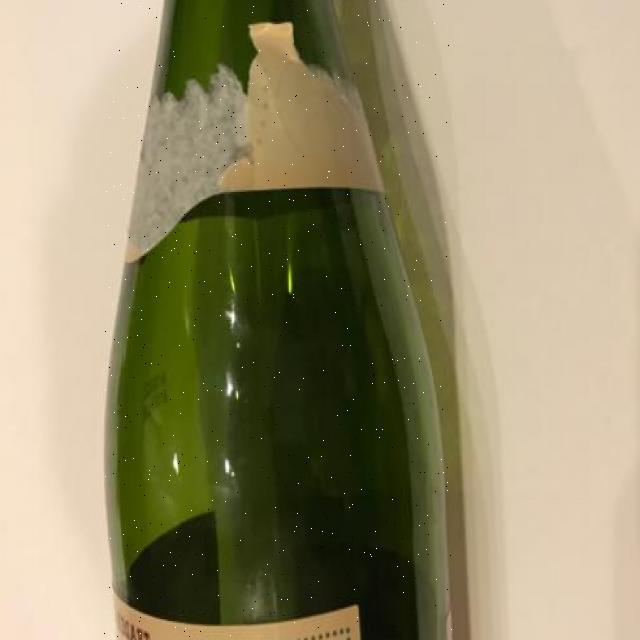glass: (104, 0, 452, 640)
